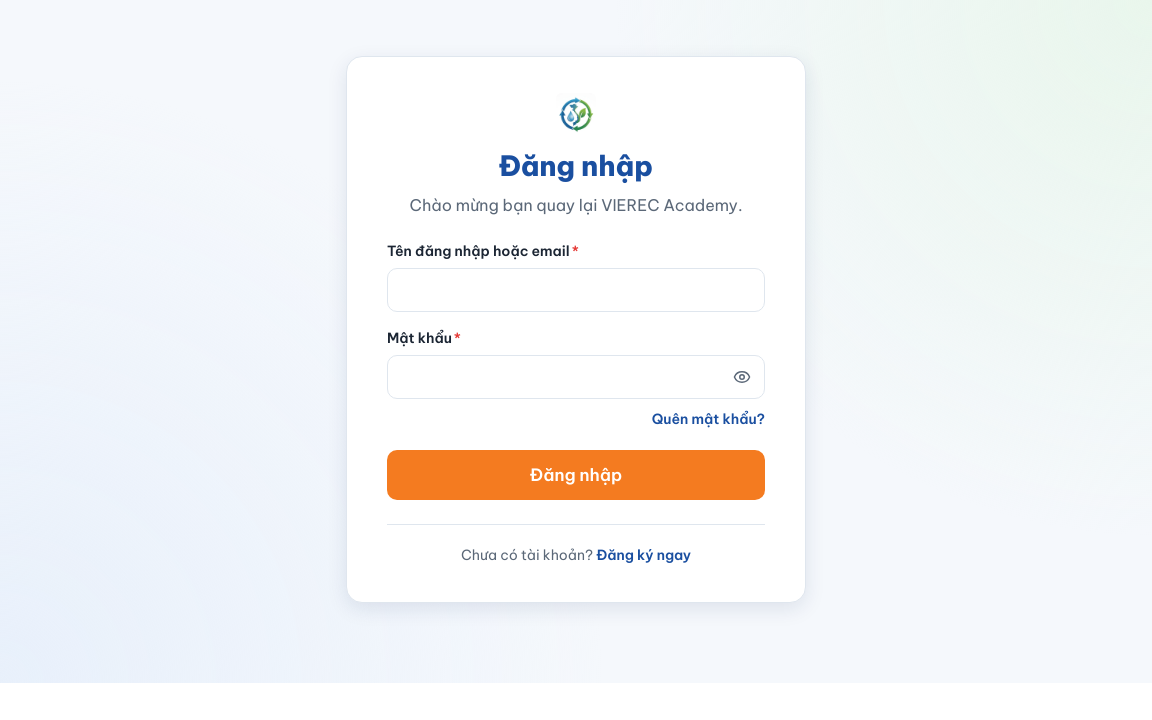
Scenario: LoginPage › explains login error VRC-401-002
The width and height of the screenshot is (1152, 720).
Step 1. Type "nguyenvana" into the field labelled "Tên đăng nhập hoặc email*" → (576, 290), box x1=387 y1=268 x2=765 y2=312
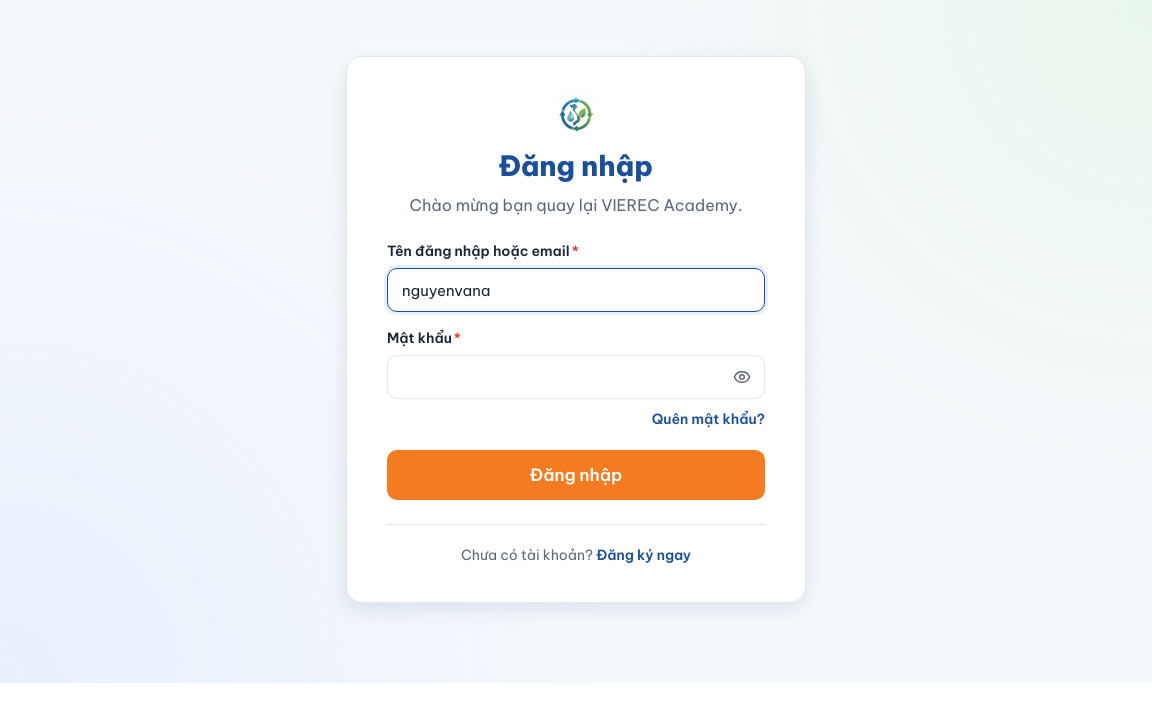
Step 2. Type "Matkhau@123" into the password field labelled "Mật khẩu*" → (576, 377), box x1=387 y1=355 x2=765 y2=399
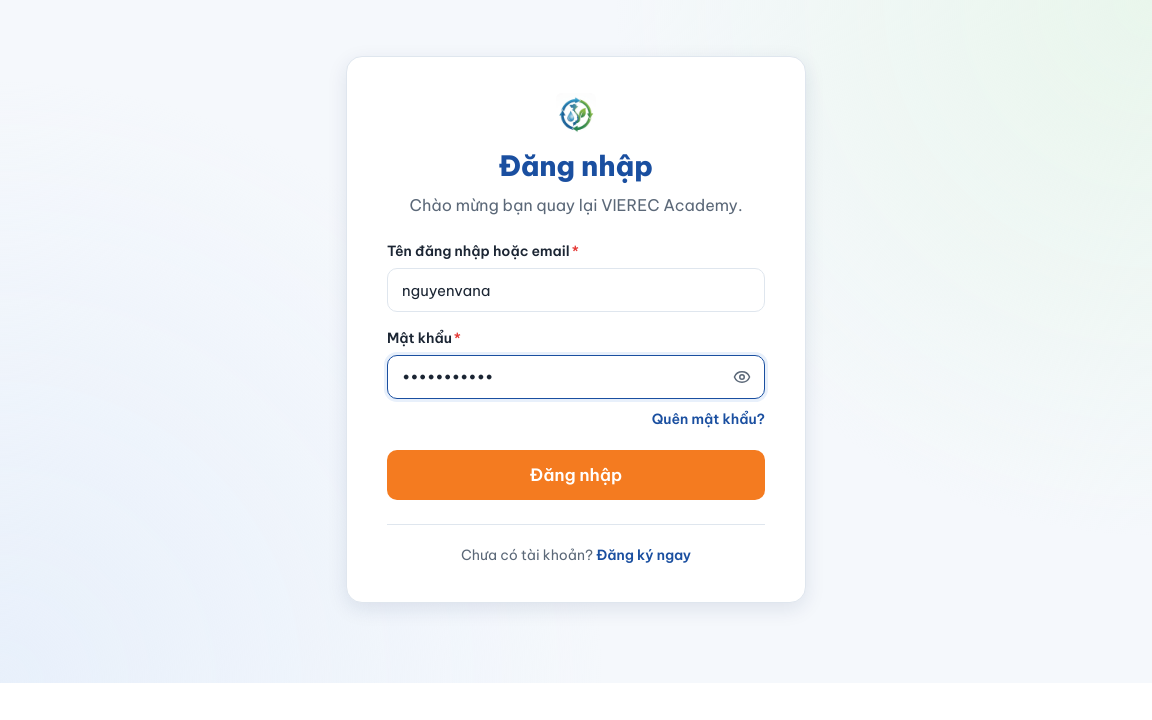
Step 3. Click the button "Đăng nhập" → (576, 475), box x1=387 y1=450 x2=765 y2=500
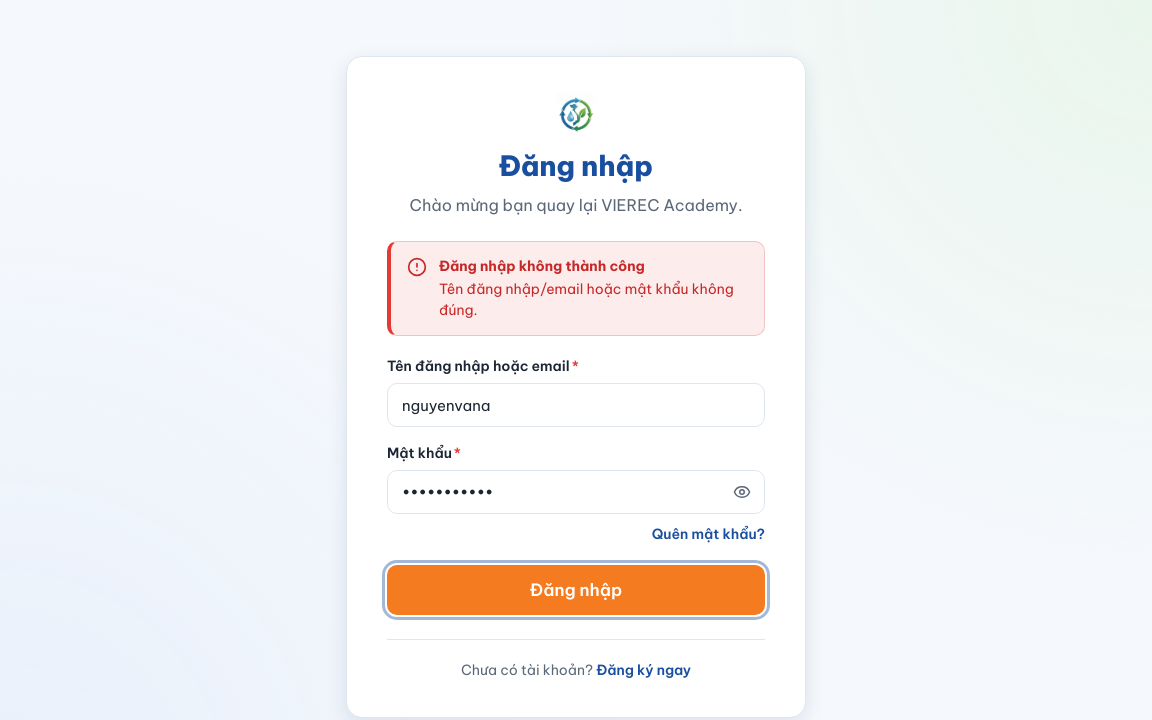
Expected: the text "Tên đăng nhập/email hoặc mật khẩu không đúng." is shown, x1=439 y1=279 x2=748 y2=321
